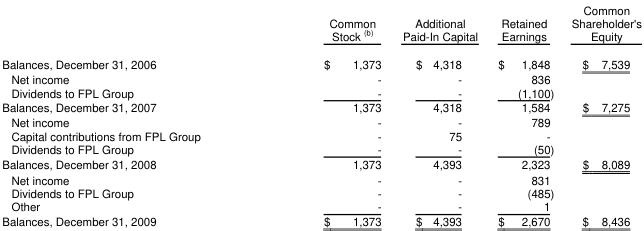table: (1, 1, 640, 228)
table column: (1, 1, 261, 228), (261, 1, 391, 228), (391, 1, 487, 228), (562, 1, 640, 228), (487, 1, 562, 228)
table column header: (1, 1, 640, 49)
table row: (1, 1, 640, 49), (1, 49, 640, 71), (1, 155, 640, 171), (1, 99, 640, 114), (1, 171, 640, 186), (1, 213, 640, 228), (1, 71, 640, 85), (1, 85, 640, 99), (1, 114, 640, 128), (1, 141, 640, 155), (1, 199, 640, 213), (1, 128, 640, 141), (1, 186, 640, 199)
